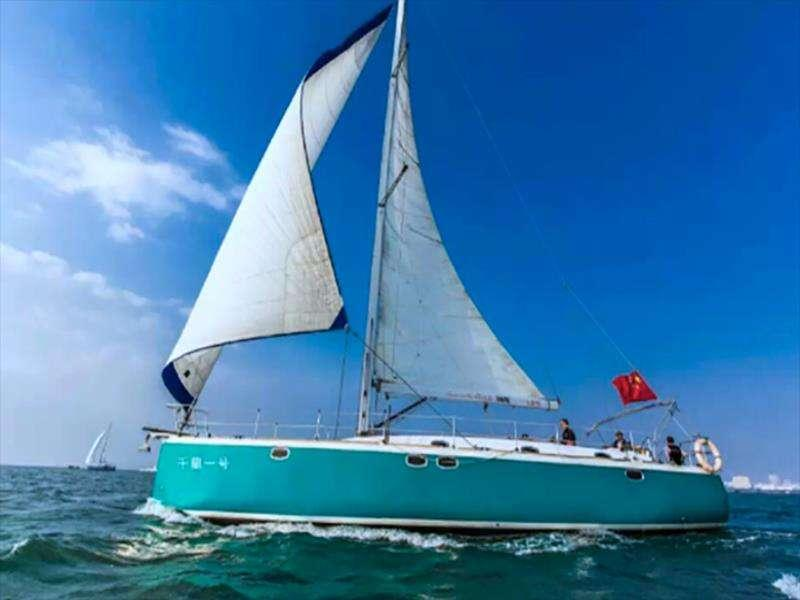fanchuan: (135, 1, 731, 535)
